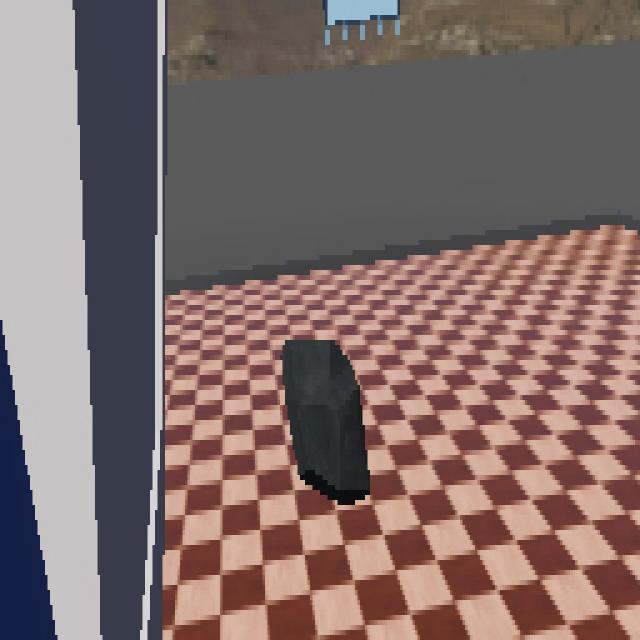rock: (282, 335, 370, 508)
